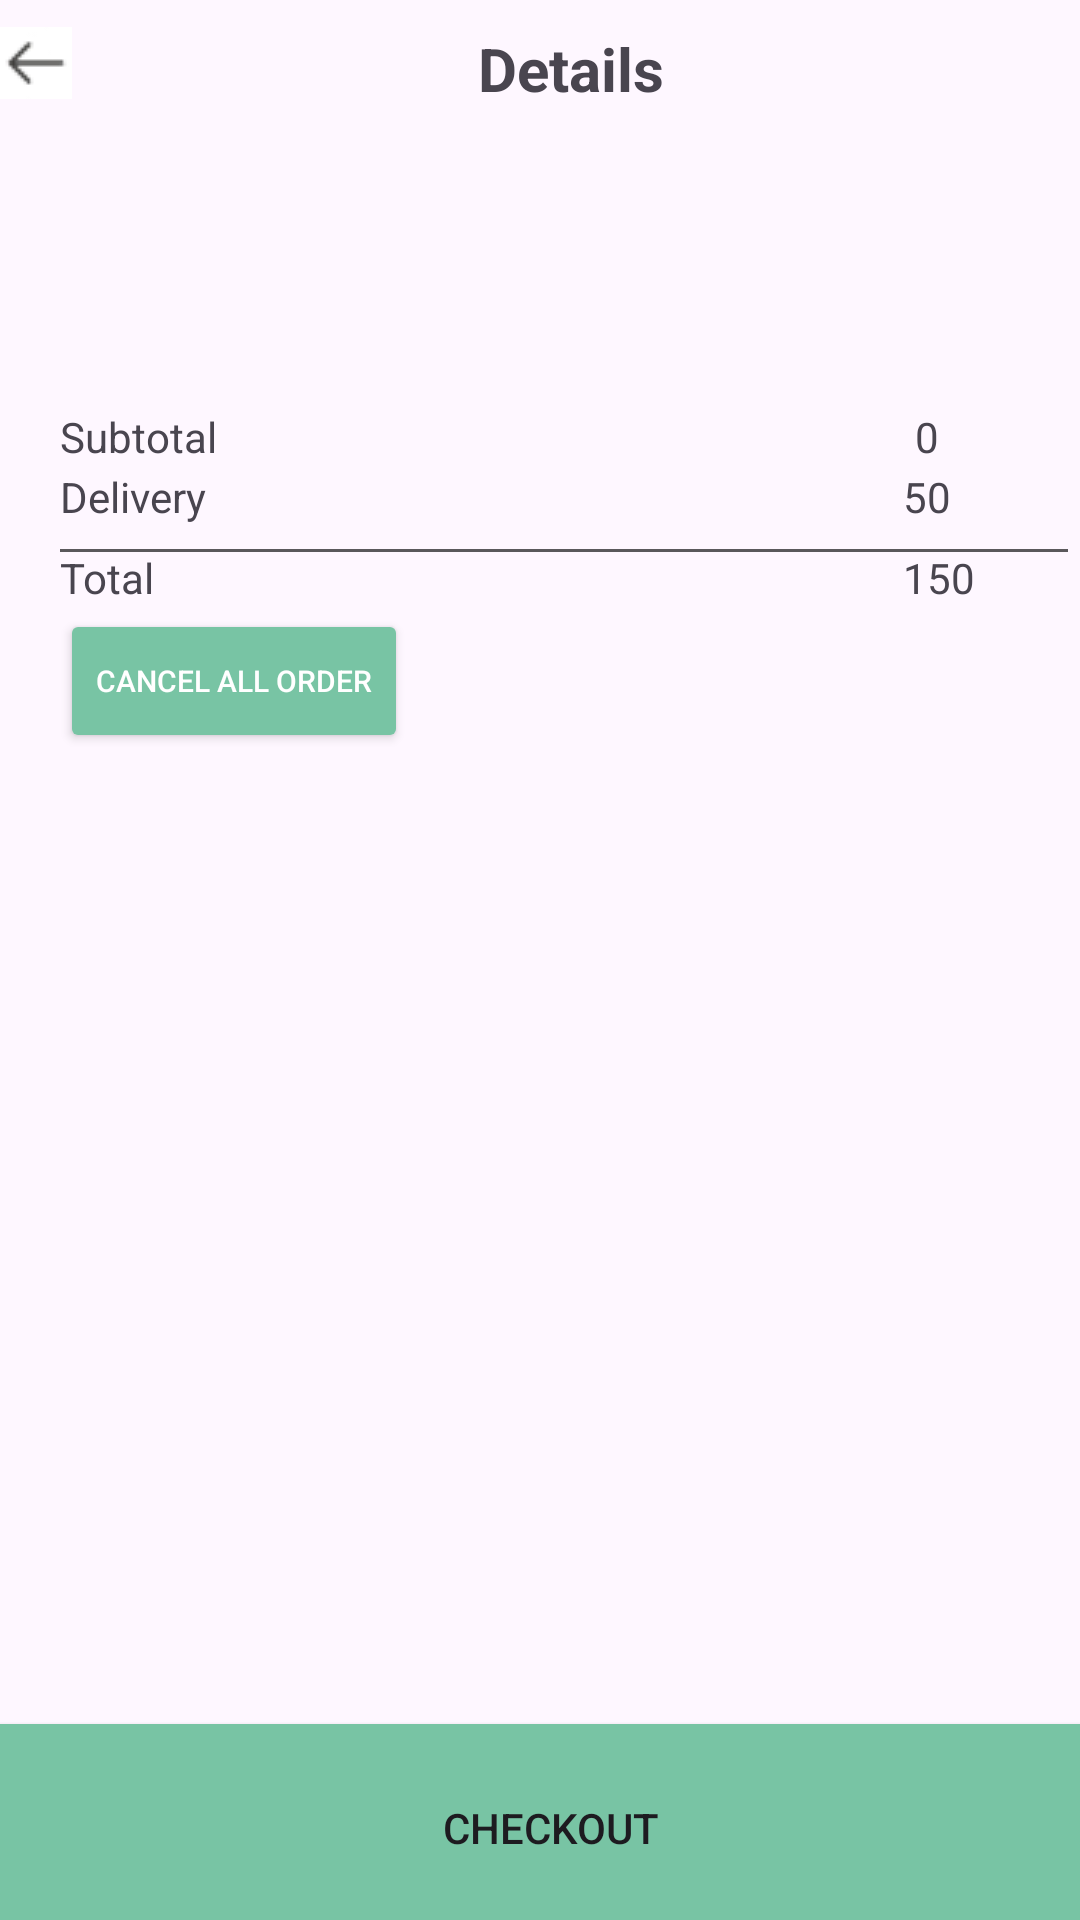

Point at icon controls on the screen. Image size 1080*1920, points as (x,y).
arrow left: (36,63)
